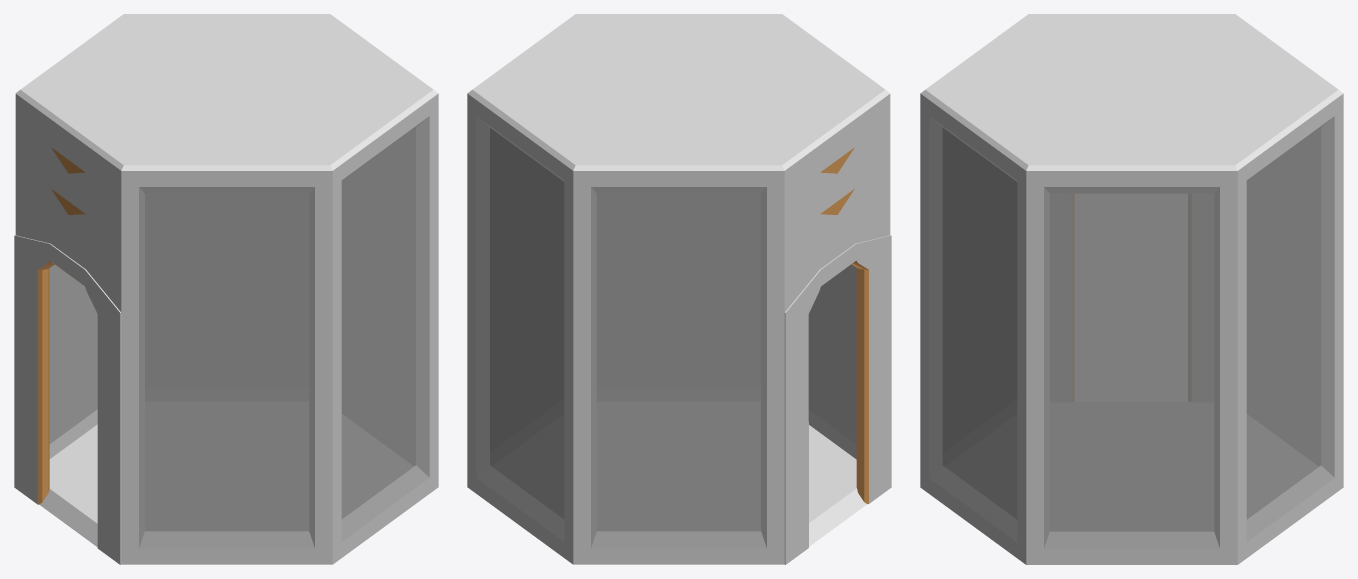
Rendered from LIft_WO_Doors.fbx.
3 renders of one model, left to right at view 1: azimuth 30°, elevation 25°; view 2: azimuth 150°, elevation 25°; view 3: azimuth 270°, elevation 25°, orthographic.
Visible parts, largest first — view 1: polySurface73; view 2: polySurface73; view 3: polySurface73.
Boxes of the visible parts, box(x1,y1,x2,y2) form: polySurface73: box(14, 14, 438, 564); polySurface73: box(467, 14, 891, 564); polySurface73: box(920, 14, 1343, 564).
Size of the model in its own units: 208 by 248 by 239.
